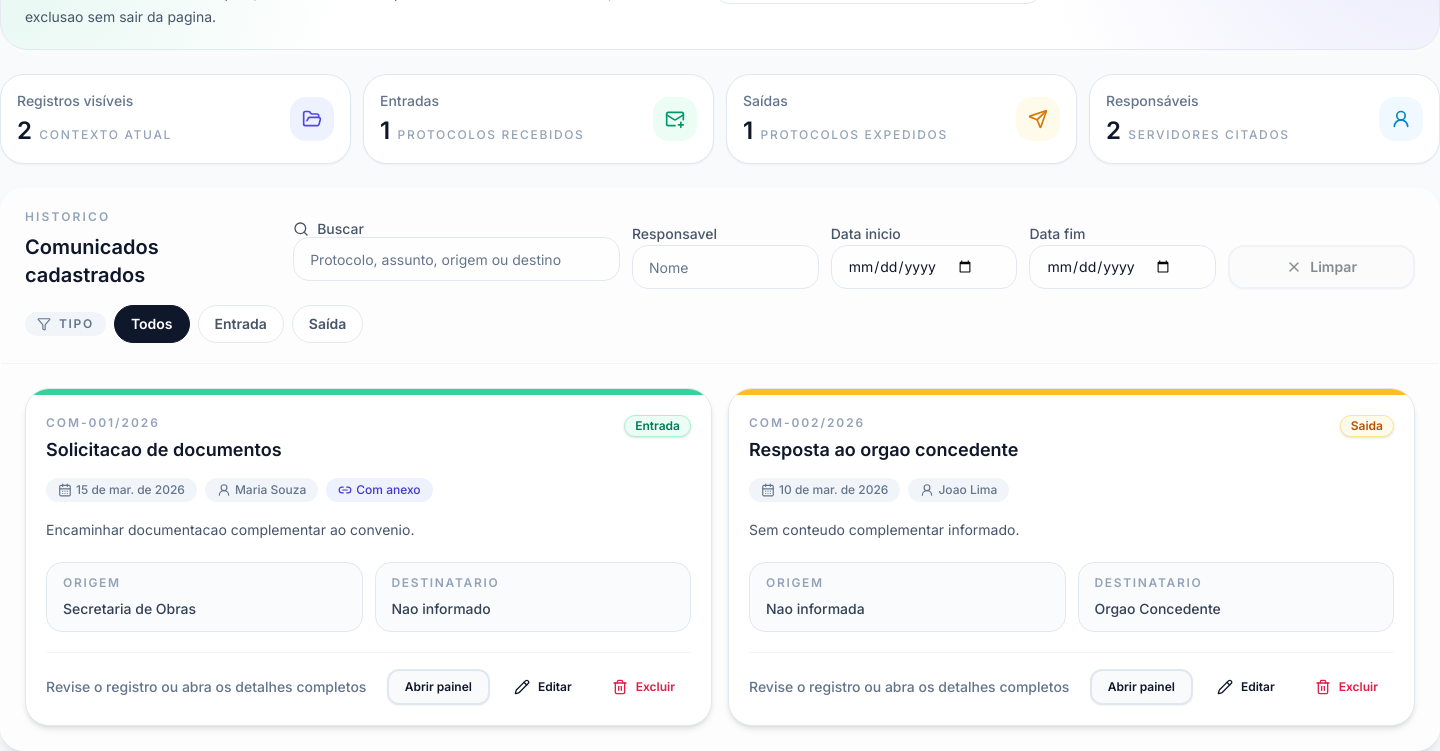
Test: ComunicadosPage › abre o drawer com detalhes do comunicado selecionado
The width and height of the screenshot is (1440, 751).
(page scrolled)
Click the button with aria-label "abrir detalhes de resposta ao orgao concedente": (1141, 686) left=1090, top=668, right=1193, bottom=704
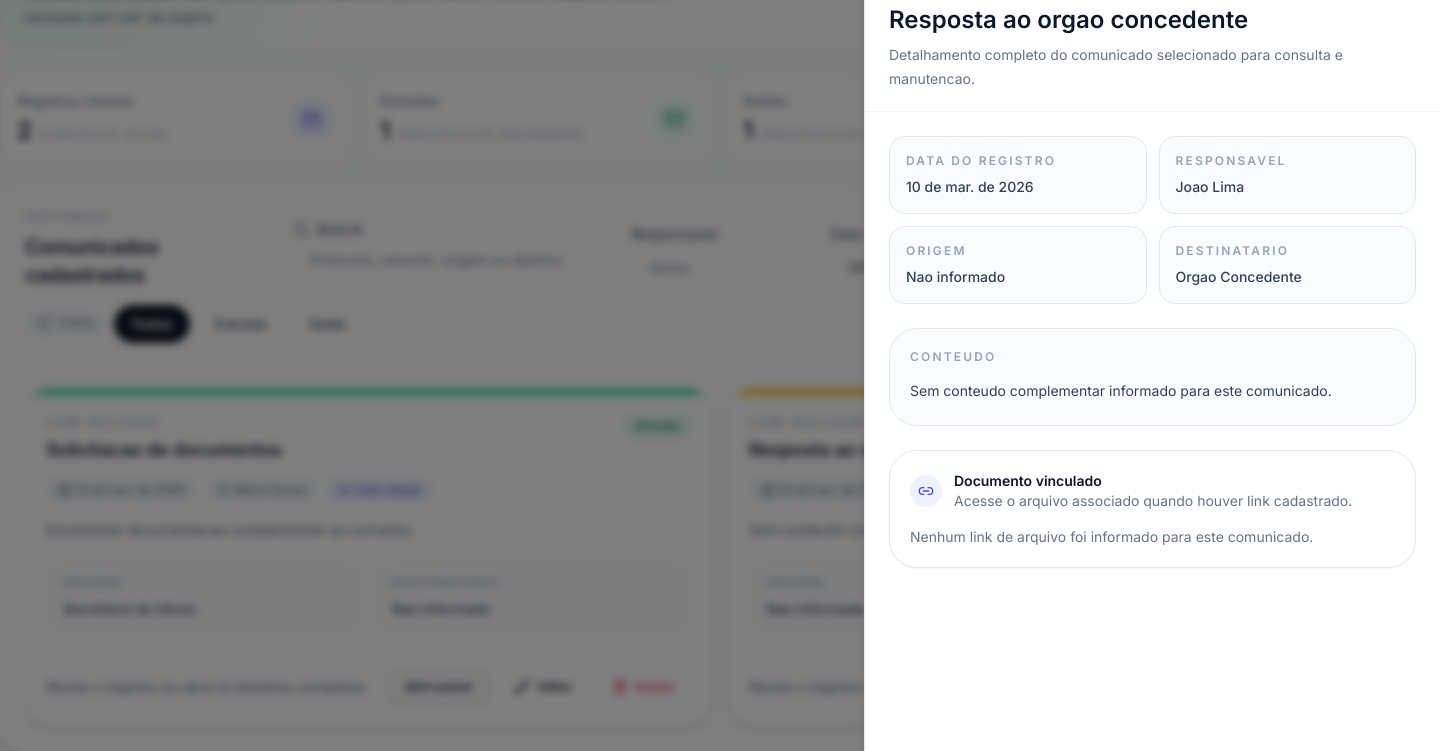
Now the text "Sem conteudo complementar informado para este comunicado." is shown, box left=910, top=377, right=1395, bottom=405
Now the text "Nenhum link de arquivo foi informado para este comunicado." is shown, box left=910, top=528, right=1313, bottom=545
